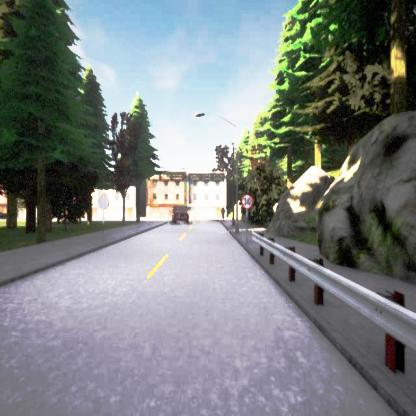vehicle: (172, 206, 189, 224)
